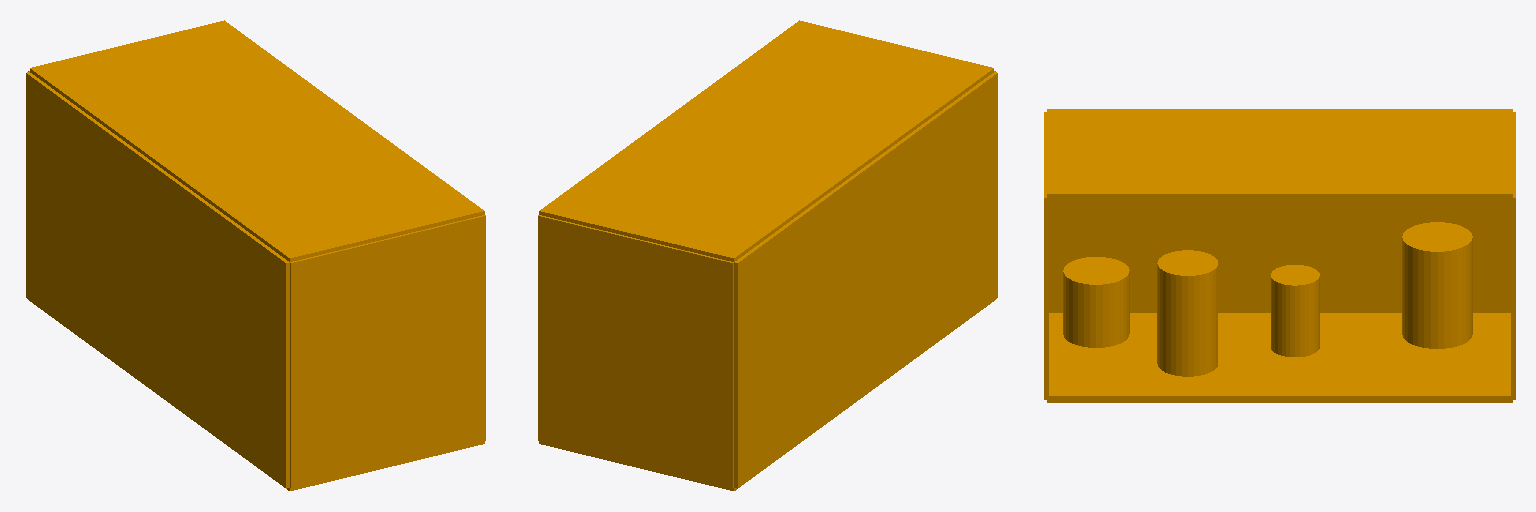
robot.urdf — syn_can_cabinet_27:
<?xml version="1.0" ?>
<robot name="syn_can_cabinet_27">
    <link concave="yes" name="base_link">
        <inertial>
            <origin rpy="0 0 0" xyz="0 0 0"/>
            <mass value="0.0"/>
            <inertia ixx="1e-08" ixy="0" ixz="0" iyy="1e-08" iyz="0" izz="1e-08"/>
        </inertial>
        <visual>
            <origin xyz="0 0 0" rpy="0 0 0" />
            <geometry>
                <mesh filename="syn_can_cabinet_27.obj" scale="1.000000 1.000000 1.000000"/>
            </geometry>         
        </visual>

        <collision concave="yes">
            <origin xyz="0 0 0" rpy="0 0 0"/>
            <geometry>
                <mesh filename="syn_can_cabinet_27.obj" scale="1.000000 1.000000 1.000000"/>
            </geometry>
        </collision>
    </link>
</robot>
    

--- What the picture shows (computed from the rendered views, not written in the file) ---
3 views of the same robot in one strip: view 1: azimuth 30°, elevation 25°; view 2: azimuth 150°, elevation 25°; view 3: azimuth 270°, elevation 25° (orthographic).
Model syn_can_cabinet_27 with 1 links and 0 joints (none), rooted at base_link, posed every joint at zero.
Links seen in each view (by area): view 1: base_link; view 2: base_link; view 3: base_link.
Link boxes in pixels (box(x1,y1,x2,y2)): base_link: box(26, 20, 485, 490); base_link: box(538, 20, 997, 490); base_link: box(1044, 109, 1515, 402).
Size in the robot's own frame: 0.1729 by 0.3963 by 0.1939 metres.
Meshes: 1 distinct files referenced, 1 mesh visuals loaded (1 OBJ).
